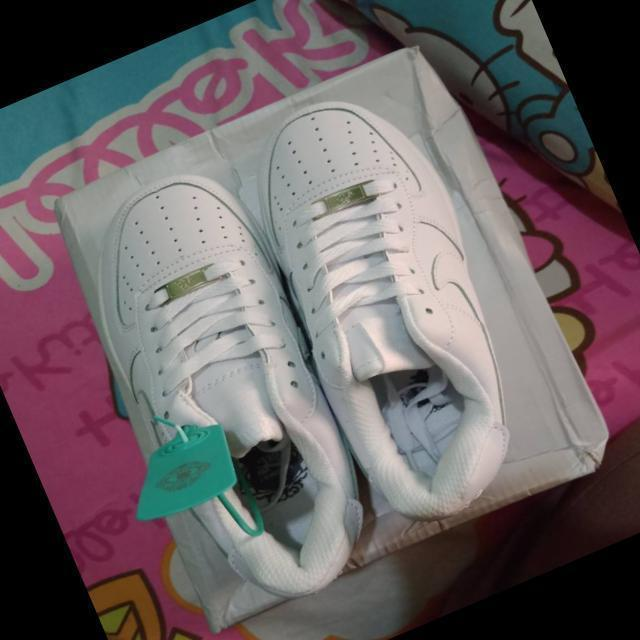nike fake air force: (38, 143, 419, 640), (207, 66, 562, 544)
